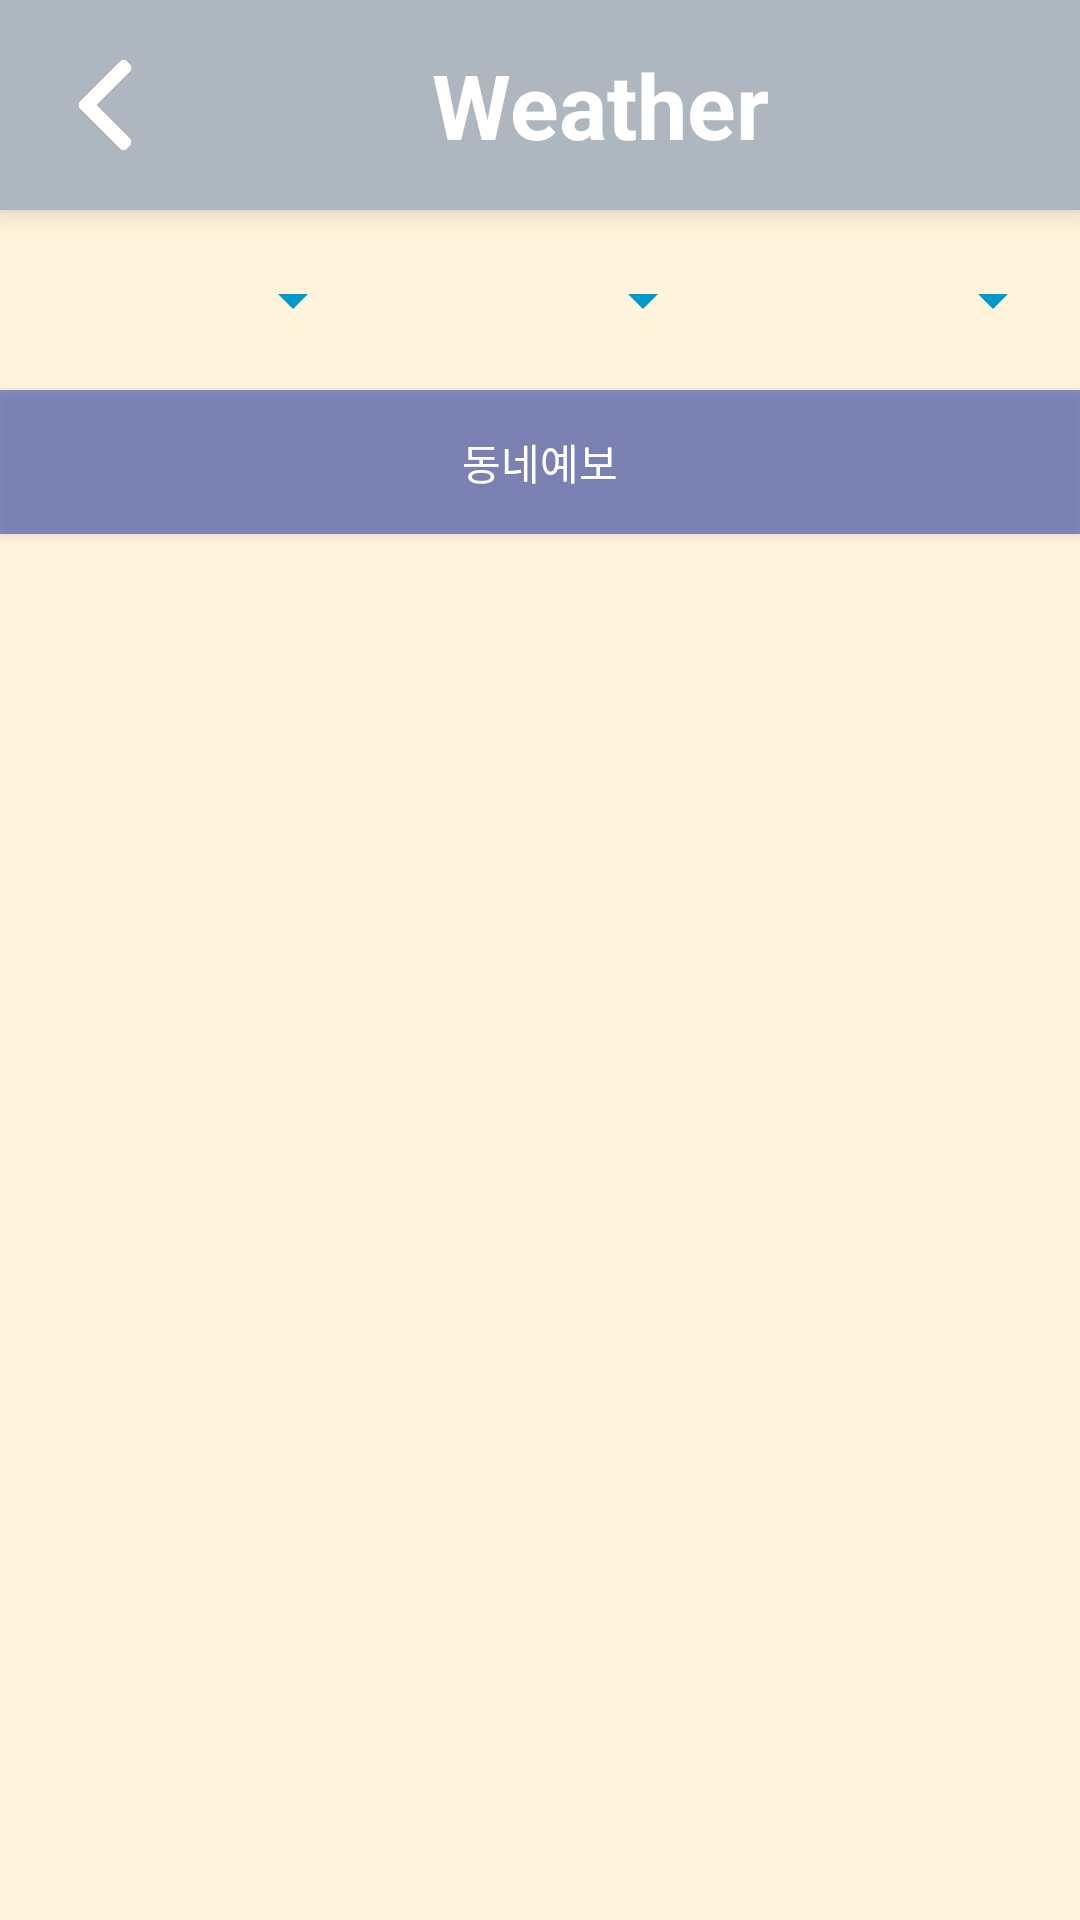

Icons on this 1080 × 1920 Android screen, each with the point to tap as point (x, y):
leftarrow: point (105, 105)
